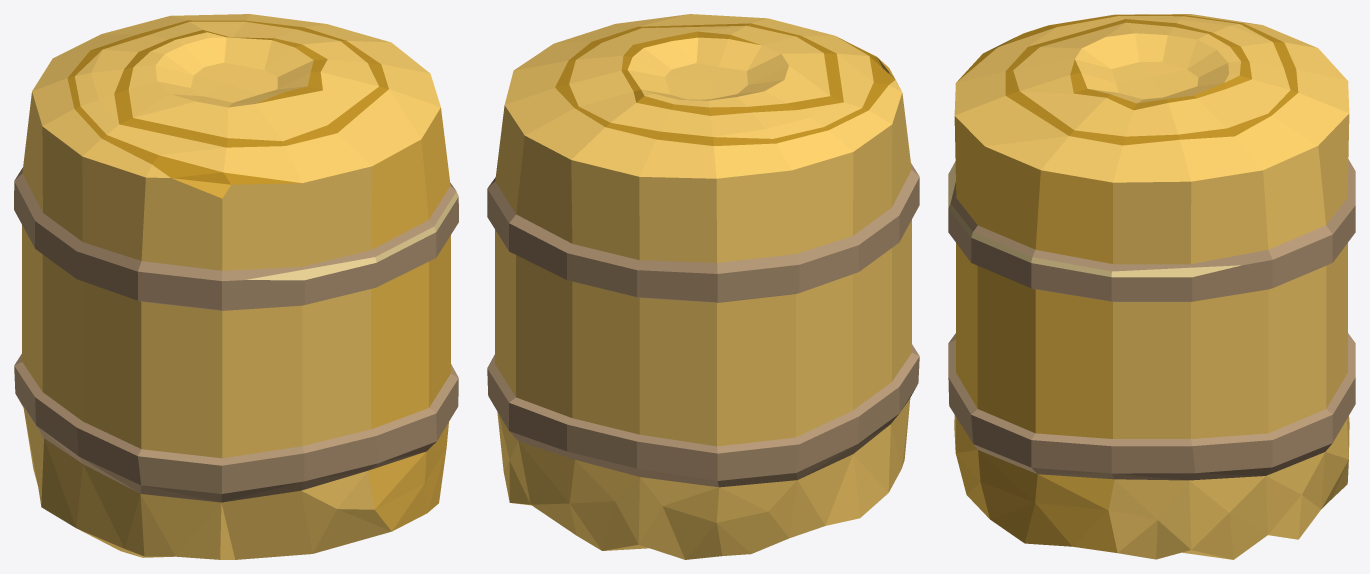
Rendered from EA_M_HayBale_Yellow_01b.fbx.
3 renders of one model, left to right at view 1: azimuth 30°, elevation 25°; view 2: azimuth 150°, elevation 25°; view 3: azimuth 270°, elevation 25°, orthographic. The views are drawn at different scales.
Visible parts, largest first — view 1: EA_M_HayBale_Yellow_01b_LOD0; view 2: EA_M_HayBale_Yellow_01b_LOD0; view 3: EA_M_HayBale_Yellow_01b_LOD0.
Boxes of the visible parts, box(x1,y1,x2,y2) form: EA_M_HayBale_Yellow_01b_LOD0: box(14, 14, 458, 559); EA_M_HayBale_Yellow_01b_LOD0: box(487, 14, 919, 559); EA_M_HayBale_Yellow_01b_LOD0: box(948, 14, 1355, 559).
Size of what is drawn, in the model's own units: 1.39 by 1.63 by 1.39.
